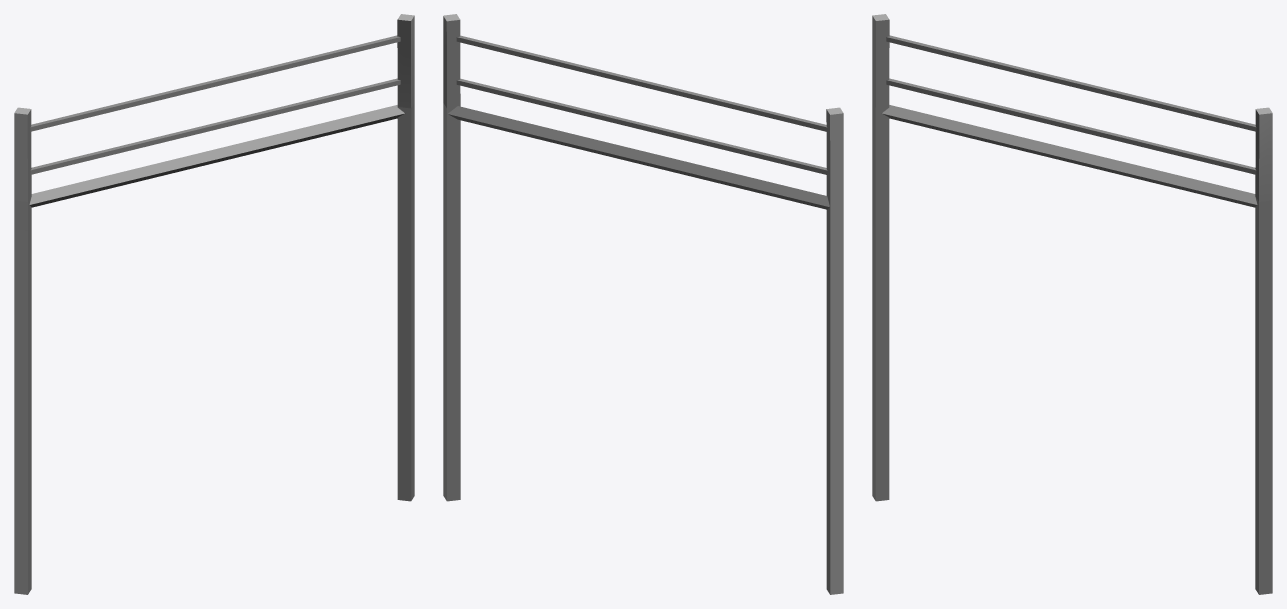
File: SM_Prop_Fence_02.fbx
3 renders of one model, left to right at view 1: azimuth 30°, elevation 25°; view 2: azimuth 150°, elevation 25°; view 3: azimuth 330°, elevation 25°, orthographic.
Visible parts, largest first — view 1: SM_Prop_Fence_02; view 2: SM_Prop_Fence_02; view 3: SM_Prop_Fence_02.
Boxes of the visible parts, x1=… form: SM_Prop_Fence_02: x1=14, y1=14, x2=414, y2=594; SM_Prop_Fence_02: x1=443, y1=14, x2=843, y2=594; SM_Prop_Fence_02: x1=872, y1=14, x2=1272, y2=594.
Size of the model in its own units: 3.96 by 4.53 by 0.1721.
